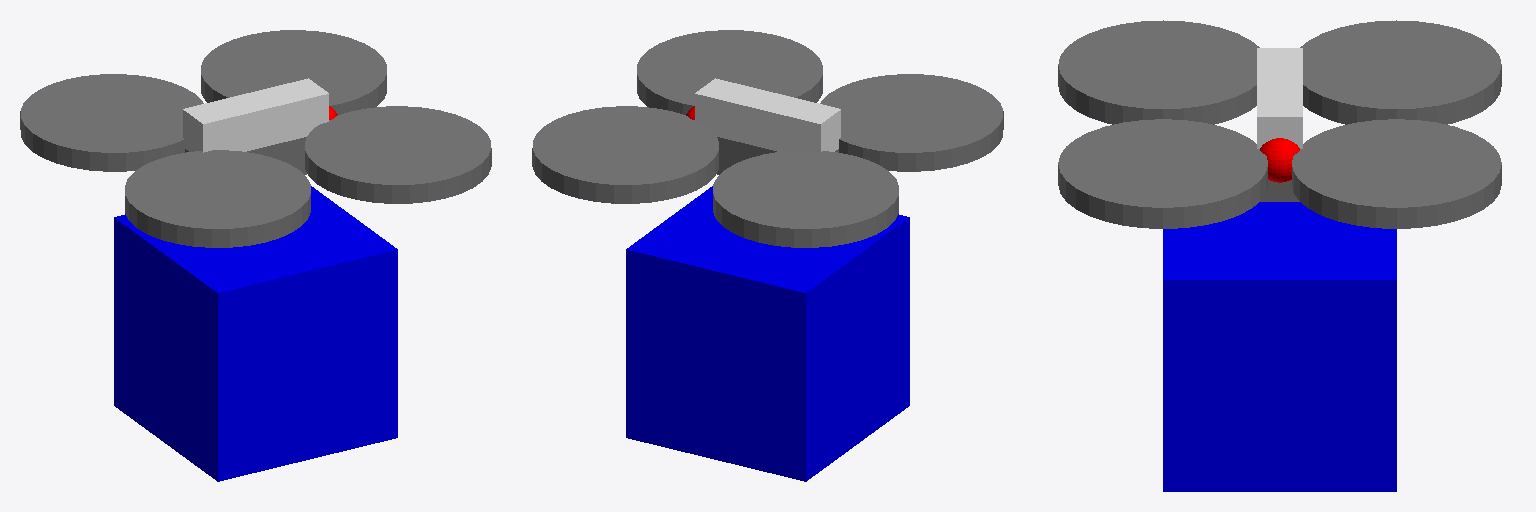
The robot description file, URDF, robot "tello_seeker":
<?xml version="1.0"?>

<!-- Body coordinates are: x forward, y left, z up; rotation is: roll right, pitch forward, yaw left -->
<!-- See http://www.ros.org/reps/rep-0103.html -->

<robot name="tello_seeker">

    <!-- Materials -->
    <material name="gray">
        <color rgba="0.5 0.5 0.5 1.0"/>
    </material>
    <material name="white">
        <color rgba="0.9 0.9 0.9 1.0"/>
    </material>
    <material name="red">
        <color rgba="1.0 0 0 1.0"/>
    </material>
    <!-- TODO add Gazebo color information -->

    <!-- Base link -->
    <link name="base_link">
        <visual>
            <origin xyz="0 0 0.01"/>
            <geometry>
                <box size="0.07 0.02 0.02"/>
            </geometry>
            <material name="white"/>
        </visual>
        <visual>
            <origin xyz="0 0 -0.01"/>
            <geometry>
                <box size="0.07 0.02 0.02"/>
            </geometry>
            <material name="gray"/>
        </visual>
        <visual>
            <origin xyz="0.05 -0.05 0"/>
            <geometry>
                <cylinder length="0.01" radius="0.045"/>
            </geometry>
            <material name="gray"/>
        </visual>
        <visual>
            <origin xyz="-0.05 0.05 0"/>
            <geometry>
                <cylinder length="0.01" radius="0.045"/>
            </geometry>
            <material name="gray"/>
        </visual>
        <visual>
            <origin xyz="-0.05 -0.05 0"/>
            <geometry>
                <cylinder length="0.01" radius="0.045"/>
            </geometry>
            <material name="gray"/>
        </visual>
        <visual>
            <origin xyz="0.05 0.05 0"/>
            <geometry>
                <cylinder length="0.01" radius="0.045"/>
            </geometry>
            <material name="gray"/>
        </visual>
        <inertial>
            <mass value="0.1"/>
            <!-- Tensor for solid cuboid 18cm x 18cm x 5cm high -->
            <inertia ixx="0.000290833" ixy="0" ixz="0" iyy="0.00054" iyz="0" izz="0.000290833"/>
        </inertial>
        <collision name="collision">
            <geometry>
                <box size="0.18 0.18 0.05"/>
            </geometry>
        </collision>
    </link>

    <!-- Camera link -->
    <link name="camera_link">
        <visual>
            <origin xyz="0 0 0"/>
            <geometry>
                <sphere radius="0.01"/>
            </geometry>
            <material name="red"/>
        </visual>
        <collision>
            <geometry>
                <sphere radius="0.01"/>
            </geometry>
        </collision>
        <inertial>
            <mass value="1e-5"/>
            <inertia ixx="1e-6" ixy="0" ixz="0" iyy="1e-6" iyz="0" izz="1e-6"/>
        </inertial>
    </link>

    <!-- Fixed joint -->
    <joint name="camera_joint" type="fixed">
        <origin xyz="0.035 0 0" rpy="0 0 0"/>  <!-- TODO fix origin -->
        <parent link="base_link"/>
        <child link="camera_link"/>
    </joint>
    
    <!-- Define the new depth camera -->
    <link name="downward_depth_camera_link">
      <visual>
        <origin xyz="0 0 0" rpy="0 0 0"/>
        <geometry>
	  <box size="0.1 0.1 0.1"/>
        </geometry>
        <material name="blue">
	  <color rgba="0 0 1 1"/>
        </material>
      </visual>
    </link>

    <joint name="downward_depth_camera_joint" type="fixed">
      <parent link="base_link"/>
      <child link="downward_depth_camera_link"/>
      <origin xyz="0 0 -0.1" rpy="0 0 0"/>
    </joint>

    <!-- Tello plugin for Gazebo -->
    <gazebo>
        <plugin name="TelloPlugin" filename="libTelloPlugin.so">
            <namespace>solo</namespace>
            <parameter name="use_sim_time" type="bool">1</parameter>
            <link_name>base_link</link_name>
            <center_of_mass>0 0 0</center_of_mass>
        </plugin>
    </gazebo>

    <!-- Camera plugin for Gazebo -->
    <!-- TODO use Tello camera specs -->
    <!-- TODO add another joint and rotate the camera into place -->
    <gazebo reference="camera_link">
        <sensor type="camera" name="solo">
            <update_rate>30.0</update_rate>
            <camera name="head">  <!-- TODO does this name do anything? -->
                <horizontal_fov>0.96</horizontal_fov>
                <image>
                    <width>960</width>
                    <height>720</height>
                    <format>R8G8B8</format>
                </image>
                <clip>
                    <near>0.1</near>
                    <far>300</far>
                </clip>
                <noise>
                    <type>gaussian</type>
                    <!-- Noise is sampled independently per pixel on each frame.
                         That pixel's noise value is added to each of its color
                         channels, which at that point lie in the range [0,1]. -->
                    <mean>0.0</mean>
                    <stddev>0.007</stddev>
                </noise>
            </camera>
            <plugin name="camera_controller" filename="libgazebo_ros_camera.so">
                <alwaysOn>true</alwaysOn>
                <updateRate>0.0</updateRate>
                <cameraName>this_is_ignored</cameraName>
                <imageTopicName>image_raw</imageTopicName>
                <cameraInfoTopicName>camera_info</cameraInfoTopicName>
                <frameName>camera_link</frameName>
                <hackBaseline>0.07</hackBaseline>
                <distortionK1>0.0</distortionK1>
                <distortionK2>0.0</distortionK2>
                <distortionK3>0.0</distortionK3>
                <distortionT1>0.0</distortionT1>
                <distortionT2>0.0</distortionT2>
            </plugin>
        </sensor>
    </gazebo>

</robot>

--- Facts derived from the render (not from the file) ---
Views: 3 orthographic renders of the robot side by side, from view 1: azimuth 30°, elevation 25°; view 2: azimuth 150°, elevation 25°; view 3: azimuth 270°, elevation 25°.
Model tello_seeker with 3 links and 2 joints (2 fixed), rooted at base_link, posed every joint at zero.
Links seen in each view (by area): view 1: base_link, downward_depth_camera_link; view 2: base_link, downward_depth_camera_link; view 3: base_link, downward_depth_camera_link, camera_link.
Boxes of the visible links, x1,y1,x2,y2 form: base_link: (20,30,491,247); downward_depth_camera_link: (114,186,397,481); base_link: (532,30,1003,247); downward_depth_camera_link: (626,186,909,481); base_link: (1058,20,1501,228); downward_depth_camera_link: (1163,202,1396,491); camera_link: (1260,138,1299,182).
Bounding box of the posed robot: 0.19 × 0.19 × 0.17 m (x, y, z).
Geometry: primitives only (box / cylinder / sphere), no mesh files.